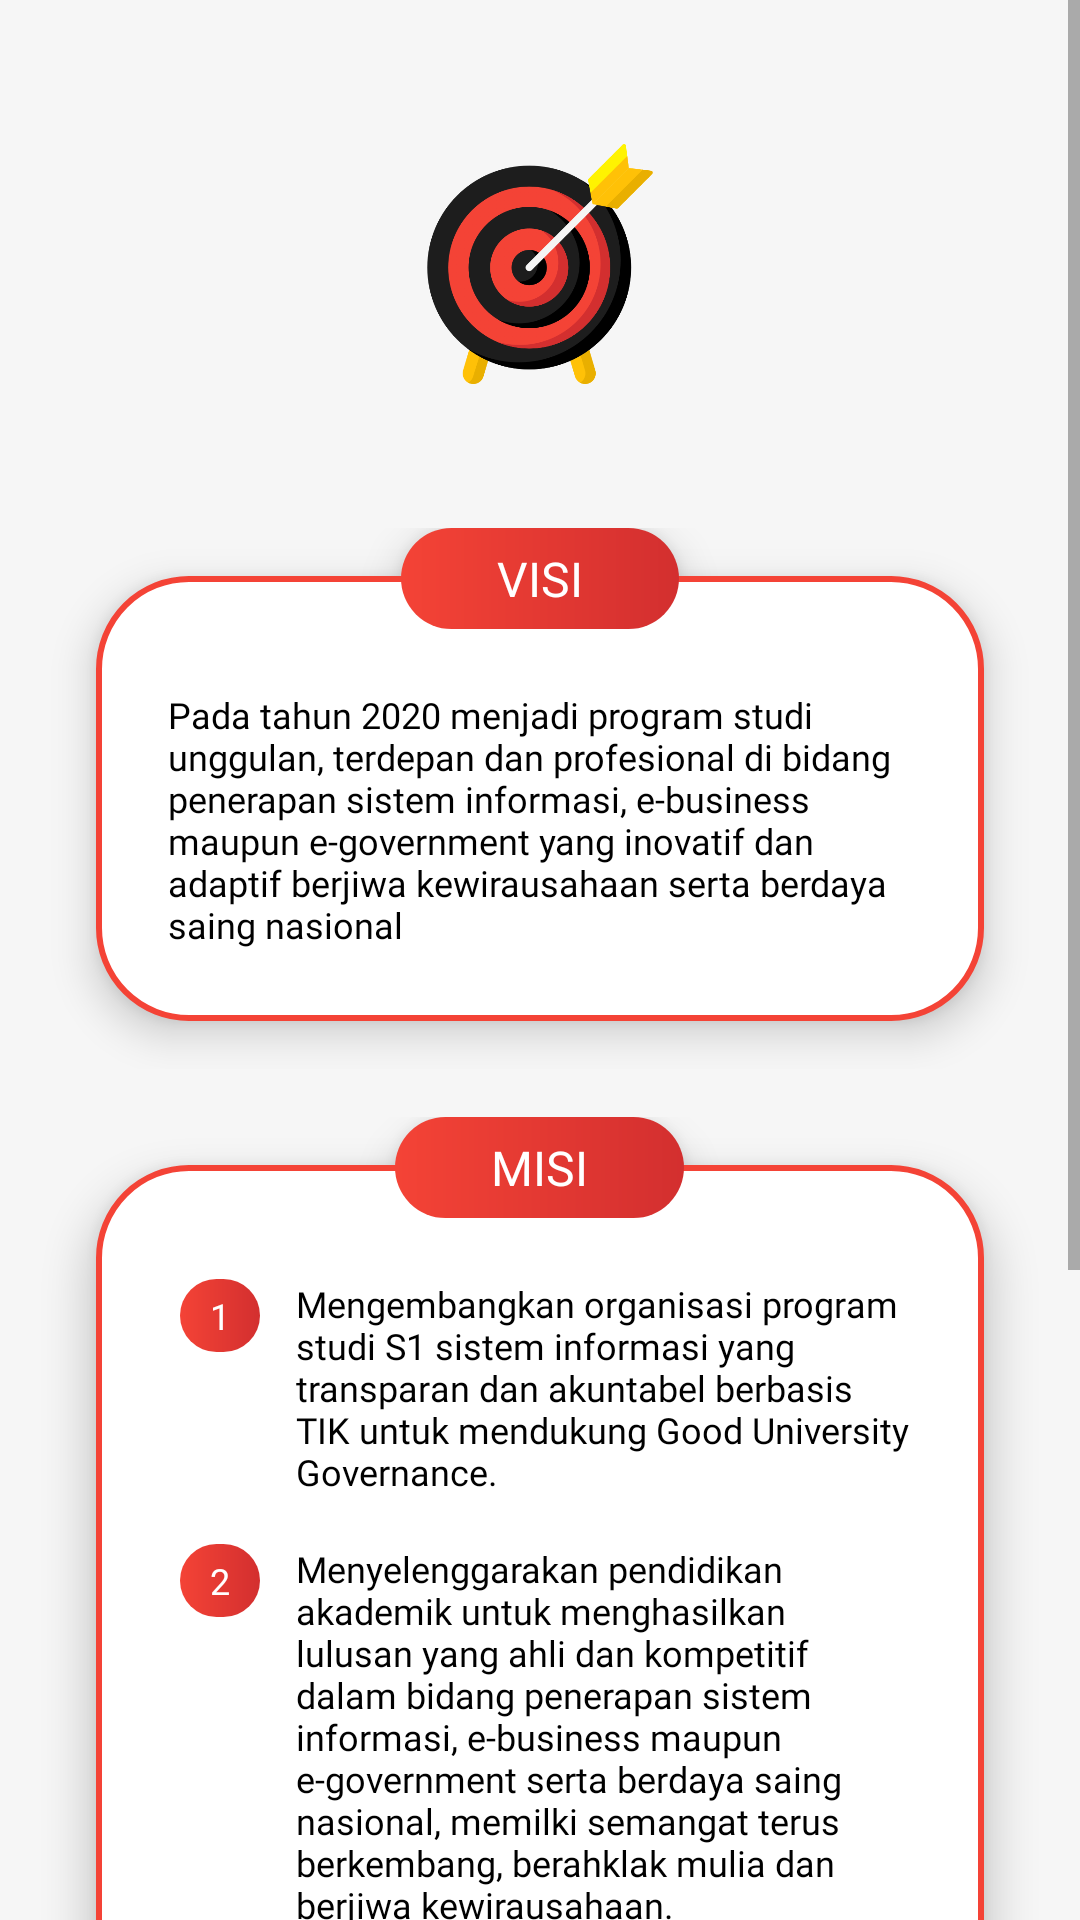

Icon bounding boxes for this 1080px×1920px phone screenshot, format detection(x1, y1, x2, y2):
target: detection(427, 144, 653, 384)
